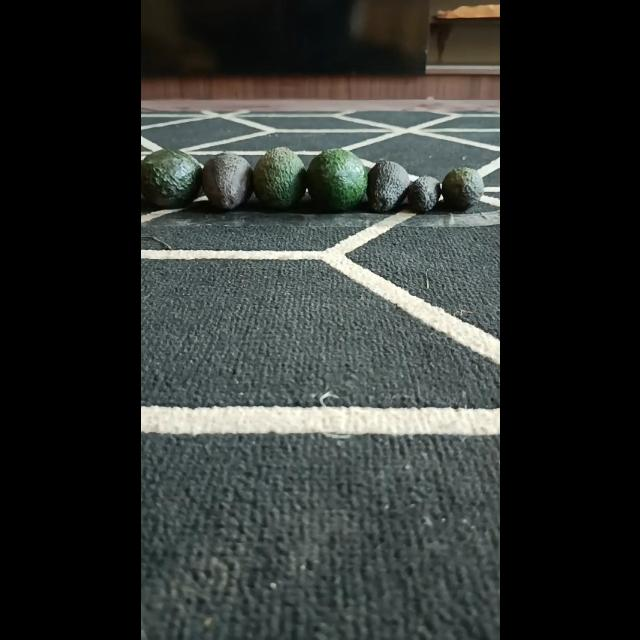Primera: (304, 148, 366, 212), (140, 149, 202, 209), (251, 146, 305, 210), (201, 152, 253, 210)
Segunda: (365, 160, 409, 212), (440, 166, 482, 212)
Tercera: (406, 176, 440, 214)
